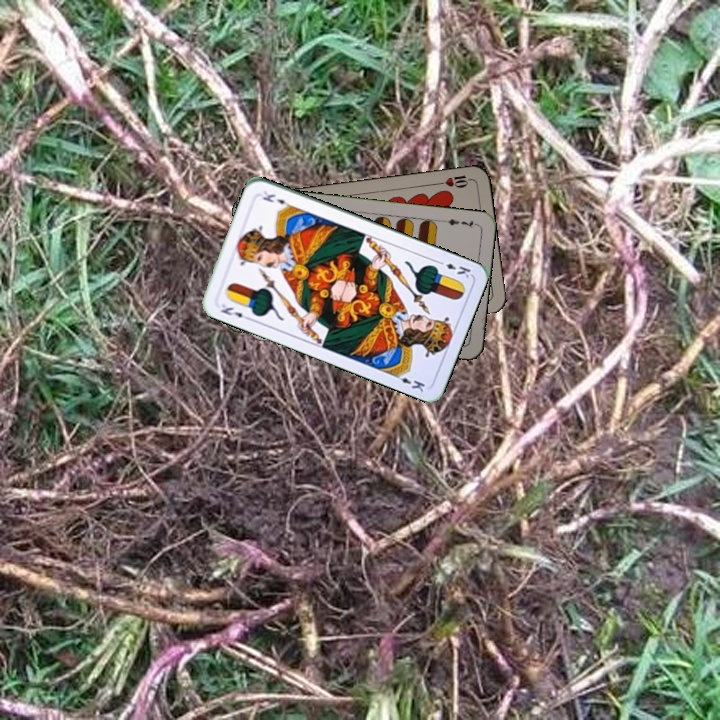E7: (439, 214, 480, 231)
EK: (434, 257, 473, 281), (217, 300, 253, 323)
H10: (433, 171, 474, 190)
